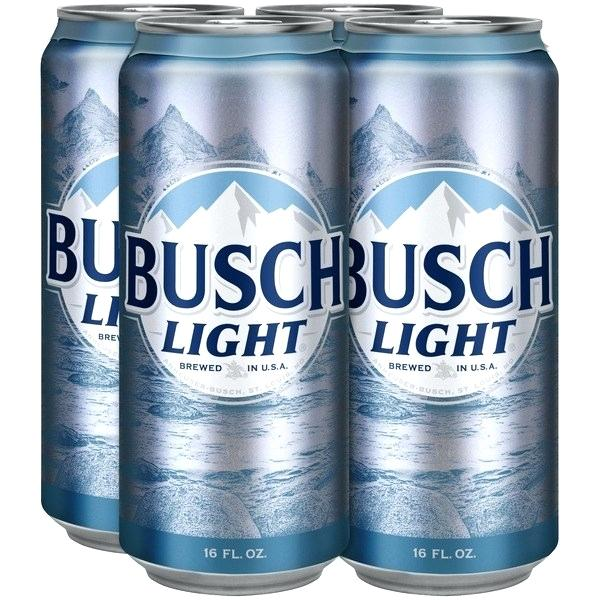beer can: (125, 14, 349, 593), (339, 14, 562, 595), (37, 7, 249, 557)
